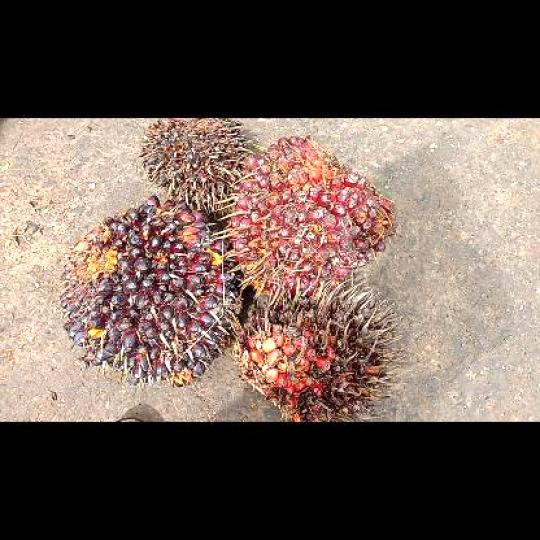kurang masak: (54, 192, 242, 390)
masak: (222, 134, 398, 302)
terlalu masak: (231, 281, 405, 420)
